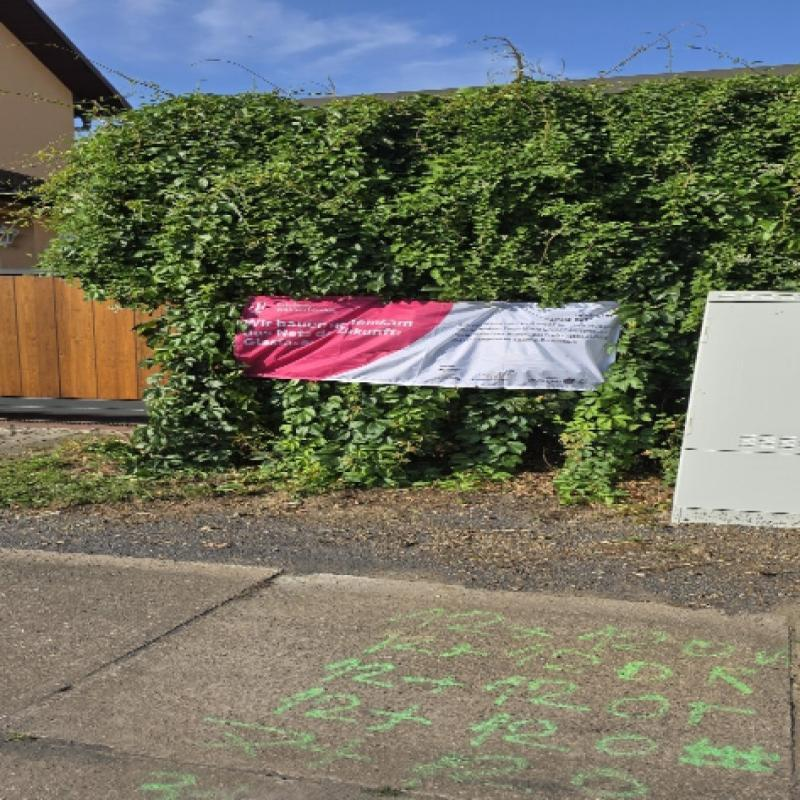Banner: (214, 292, 637, 391)
